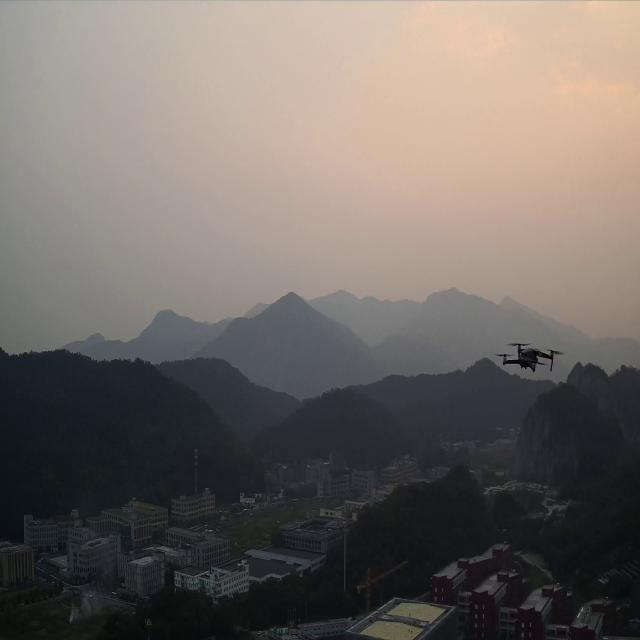UAV: (496, 341, 563, 373)
